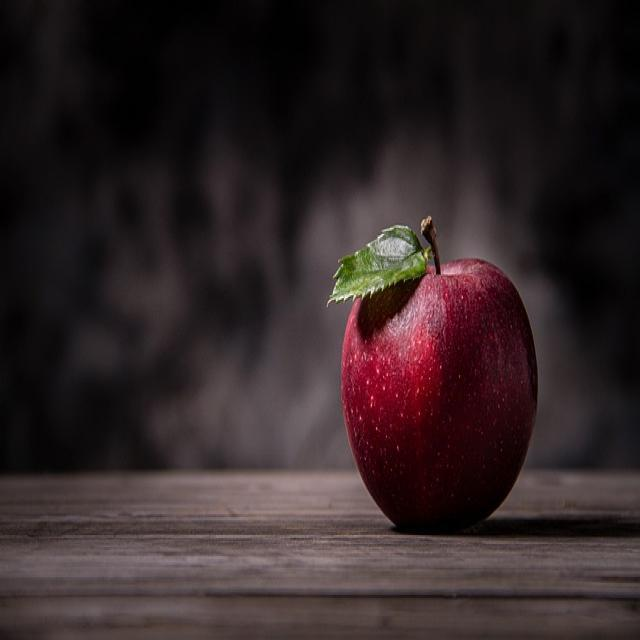Fresh Apple: (332, 247, 553, 545)
